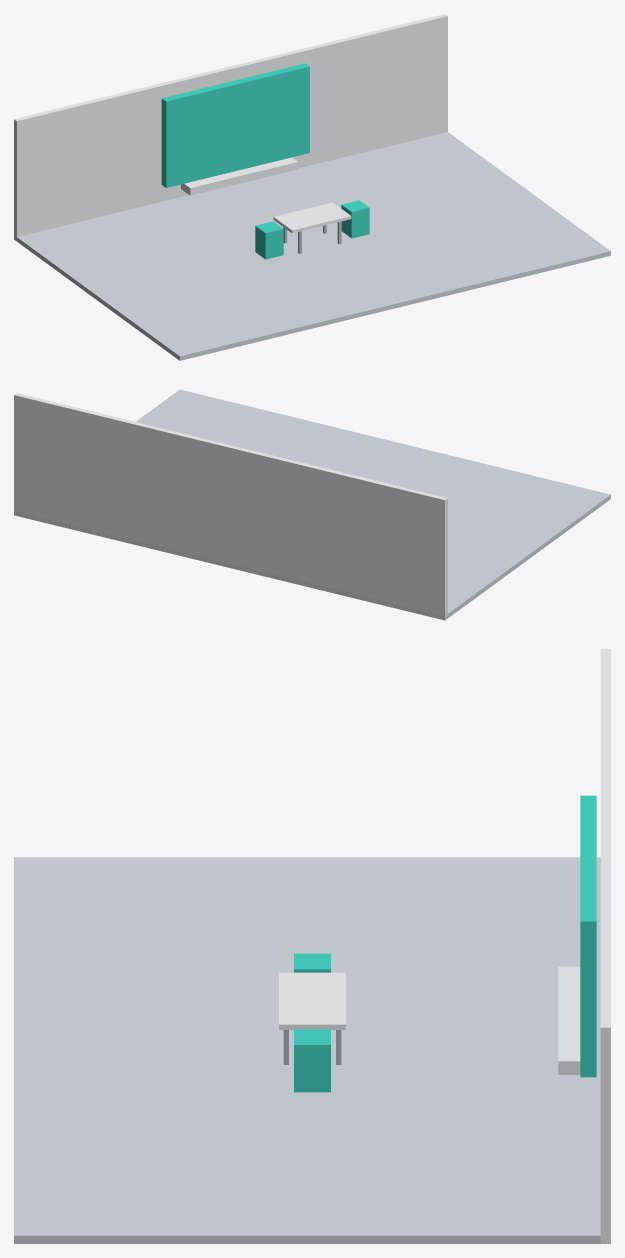
The picture shows the model from 3 angles, top to bottom: view 1: azimuth 30°, elevation 25°; view 2: azimuth 150°, elevation 25°; view 3: azimuth 270°, elevation 25°; orthographic projection. The views are drawn at different scales.
Visible parts, largest first — view 1: Exhibition Booth Concept; view 2: Exhibition Booth Concept; view 3: Exhibition Booth Concept.
Part boxes in pixels (<box>): Exhibition Booth Concept: <box>14,14,610,360</box>; Exhibition Booth Concept: <box>14,389,610,620</box>; Exhibition Booth Concept: <box>14,649,610,1243</box>.
Size of the model in its own units: 12 by 3.2 by 8.
